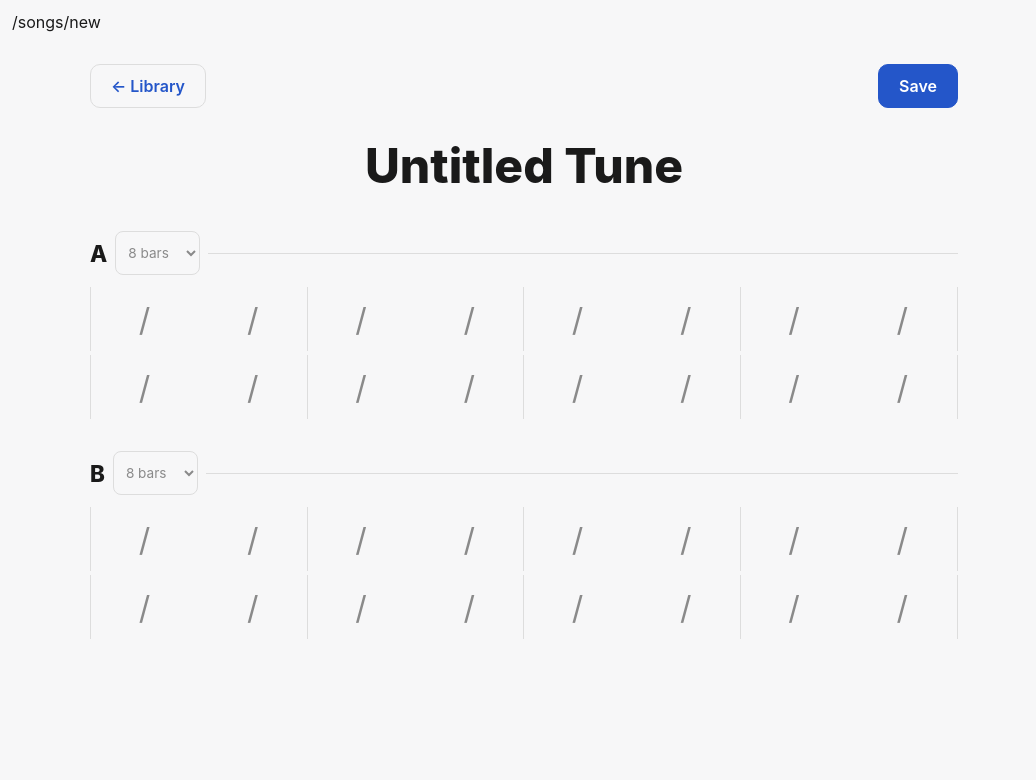
it: SongEditorPage — creating a new song › lets the user type a title and edit a cell with mouse + keyboard, then save
Replace the text in the field named "Song title" with "My New Tune" at (524, 166), box [90,132,958,199]
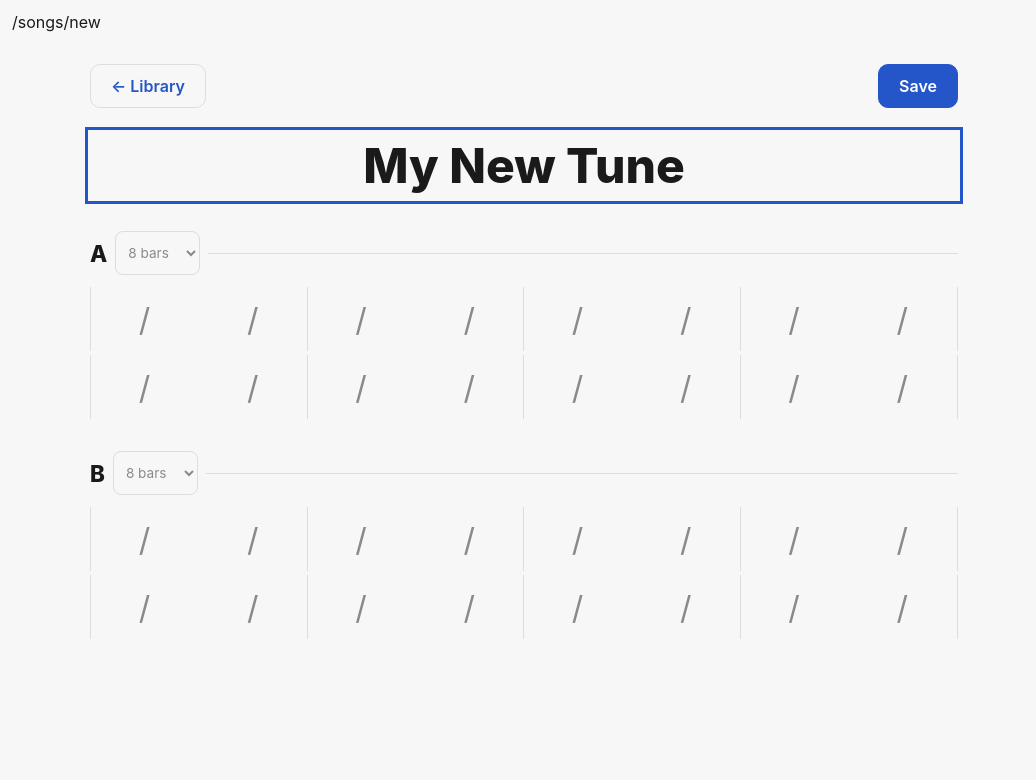
Click the button named "A Part, ending 1, measure 1, beat 1" at (145, 319), box [91,287,199,351]
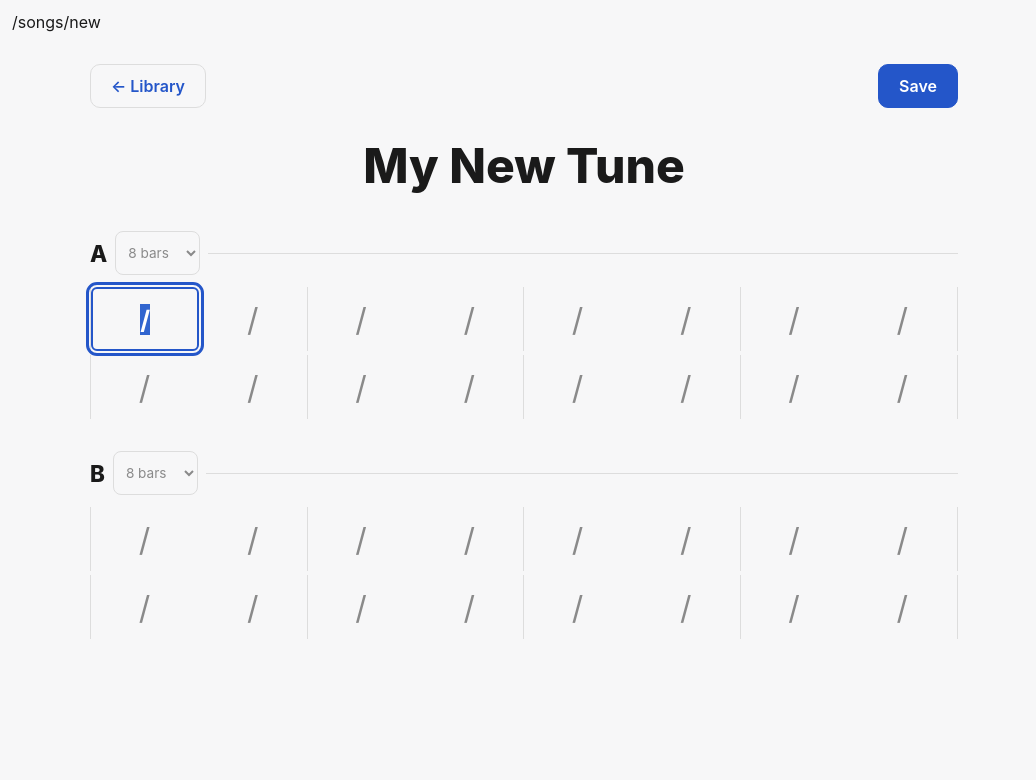
Type keys "1{Enter}"
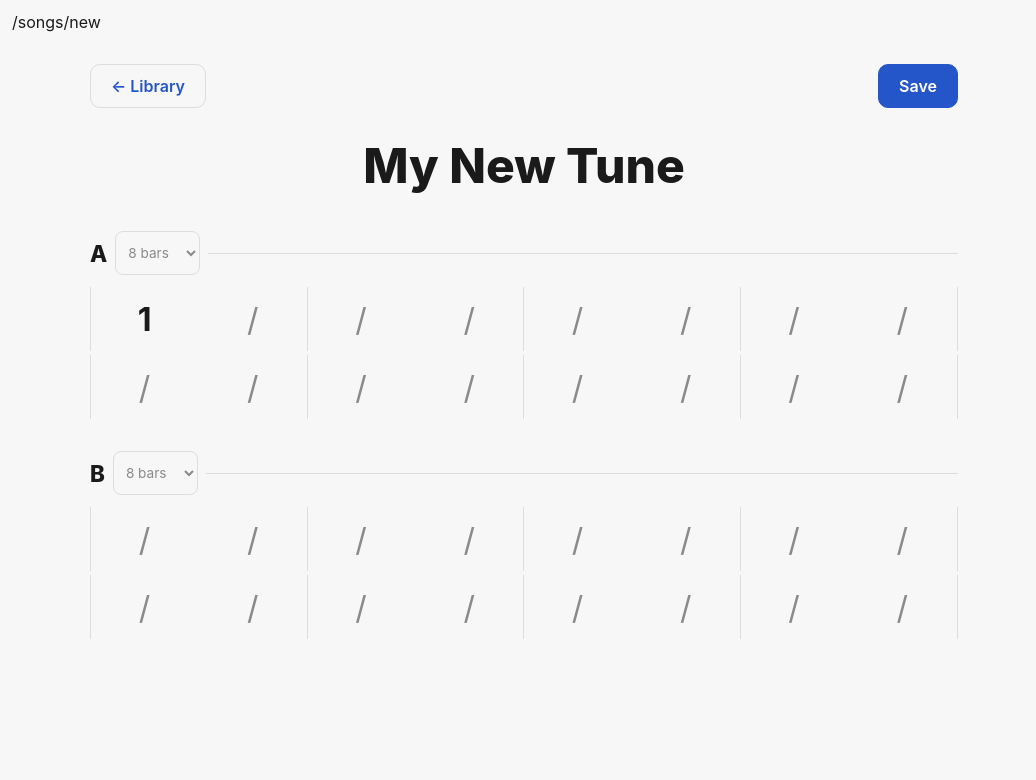
Click the button "Save" at (918, 86), box [878,64,958,108]
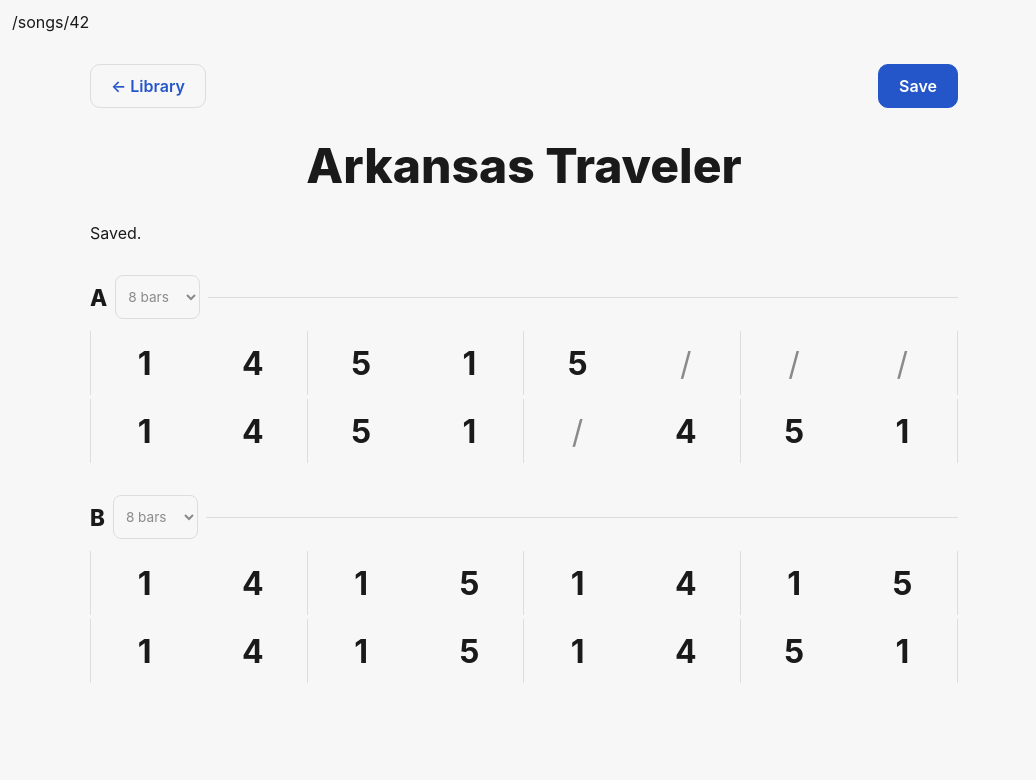
Check: the text with test id "location" reads "/songs/42", box [12,12,89,32]
